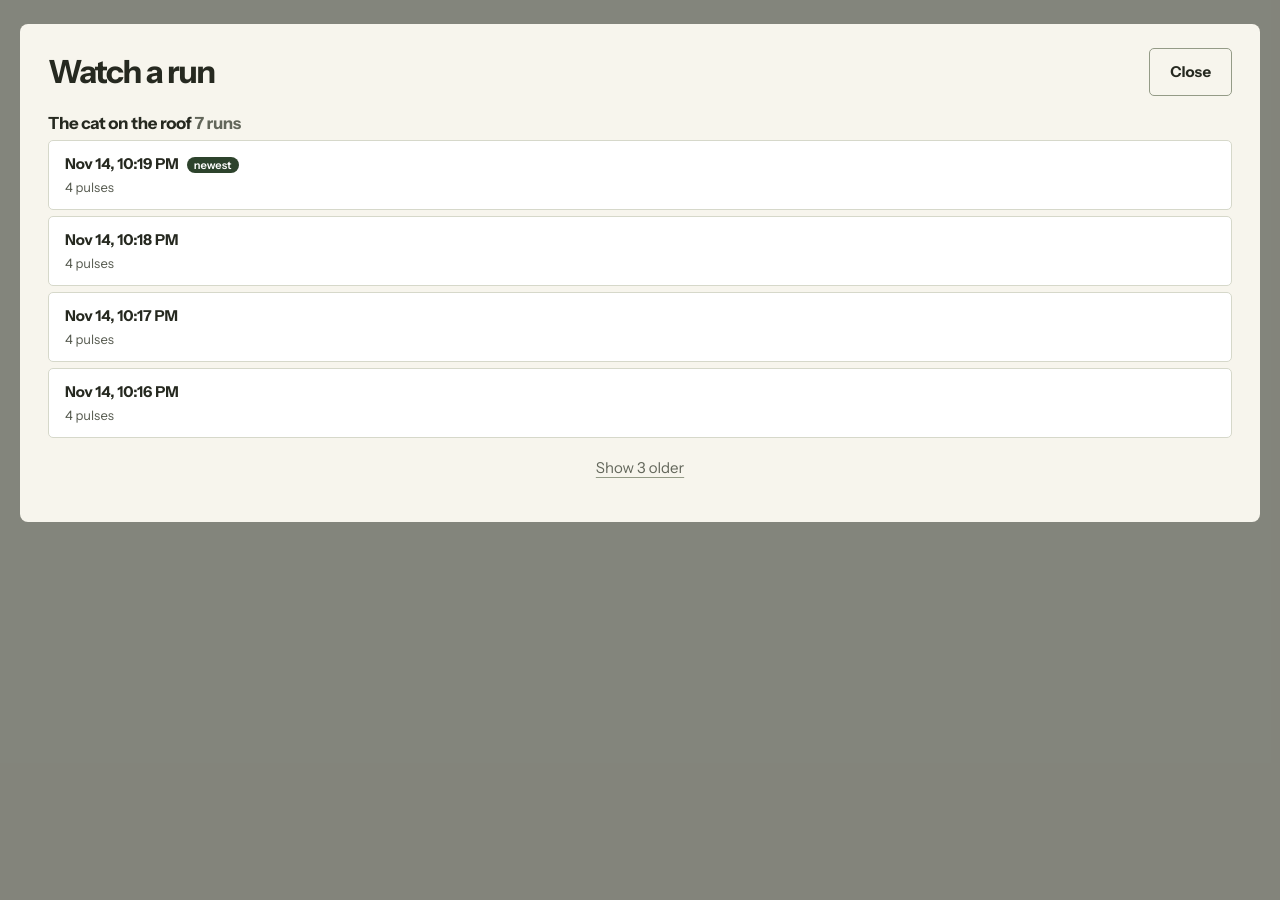
Test case: grouping runs › shows the newest few of a long list and offers the rest
Expected: the number of buttons named "The cat on the roof" is 4, [48,140,1232,210]; [48,216,1232,286]; [48,292,1232,362]; [48,368,1232,438]
Click the button "Show 3 older": x=640, y=468 [48,446,1232,490]
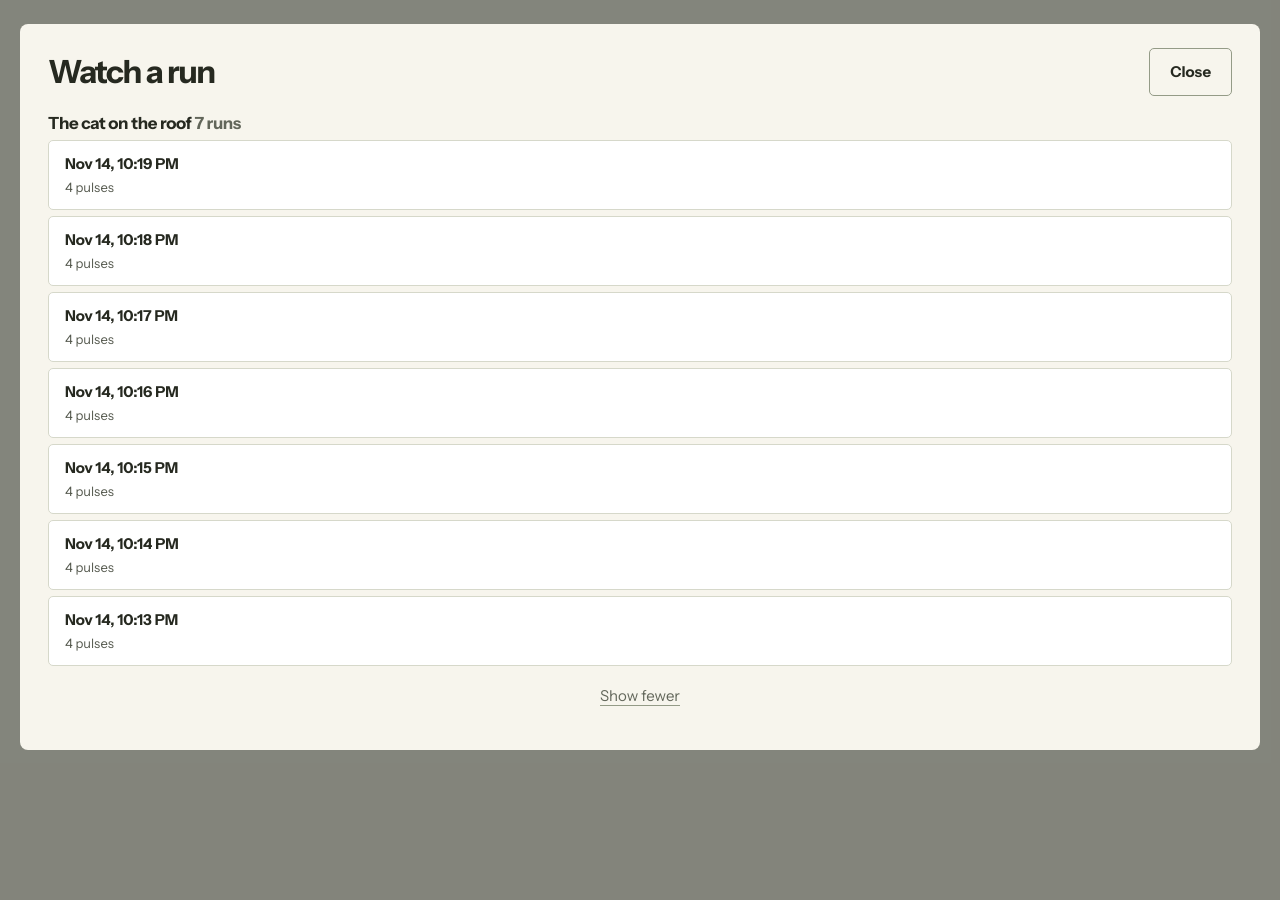
Expected: the number of buttons named "The cat on the roof" is 7
